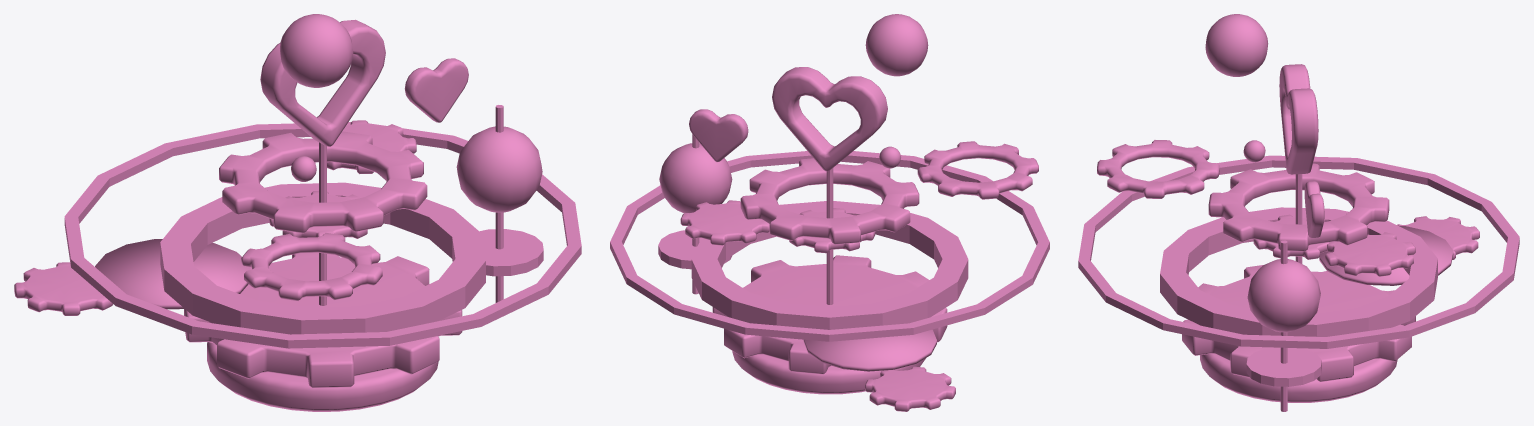
Rendered from WABD_backgrounds_mainmachine_up_animation_lo.fbx.
3 renders of one model, left to right at view 1: azimuth 30°, elevation 25°; view 2: azimuth 150°, elevation 25°; view 3: azimuth 270°, elevation 25°, orthographic. The views are drawn at different scales.
Parts seen in each view (by area): view 1: mainmachine_upper_lo; view 2: mainmachine_upper_lo; view 3: mainmachine_upper_lo.
Boxes of the visible parts, left/top/right/bottom form: mainmachine_upper_lo: left=14, top=14, right=581, bottom=411; mainmachine_upper_lo: left=610, top=14, right=1049, bottom=411; mainmachine_upper_lo: left=1078, top=14, right=1519, bottom=411.
Bounding box in the file's own units: 446 × 367 × 446.
